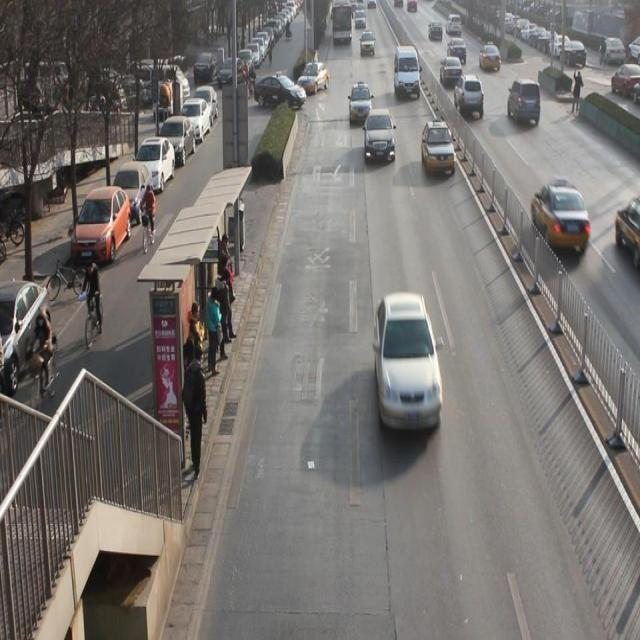car: (374, 294, 446, 437), (532, 183, 588, 253), (422, 120, 457, 181), (508, 77, 542, 132), (364, 111, 396, 166), (454, 74, 484, 119), (349, 80, 372, 124), (303, 60, 330, 96), (440, 54, 464, 86), (479, 42, 503, 74), (448, 37, 468, 63), (360, 30, 377, 58)
truck: (394, 49, 422, 102)
